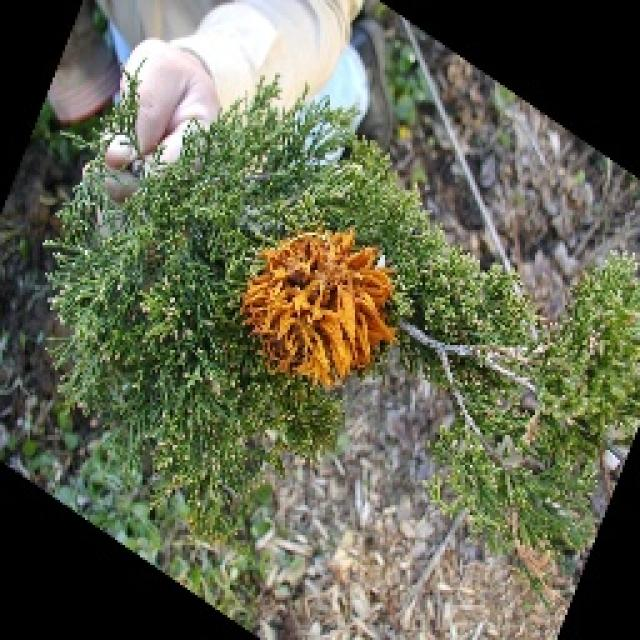Gymnosporangium_Rusts: (227, 207, 420, 413)
